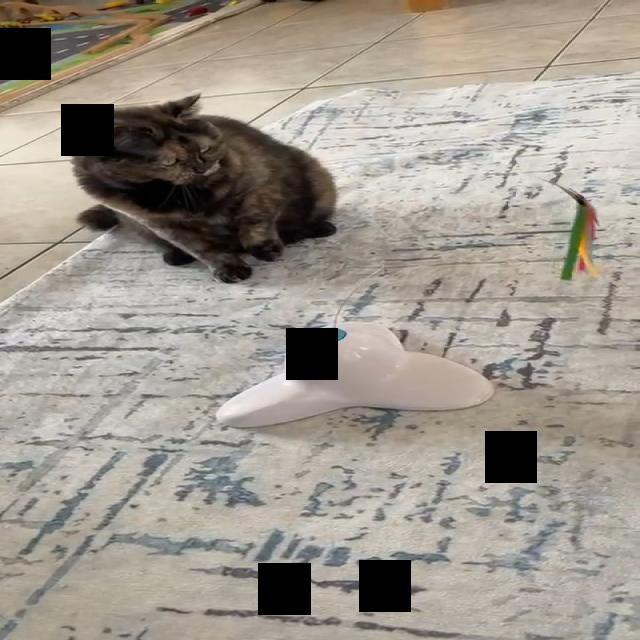authorized: (69, 91, 339, 283)
